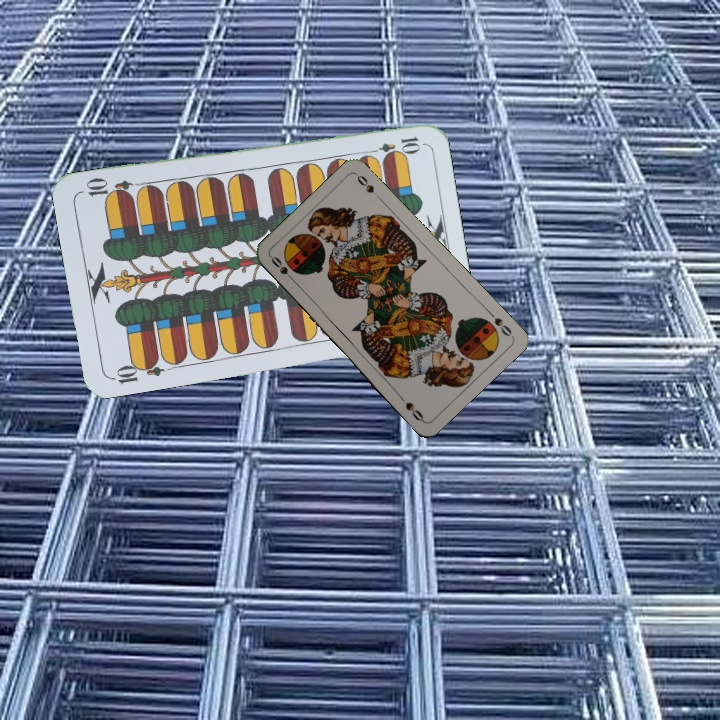E10: (107, 354, 166, 387), (364, 132, 423, 158)
SO: (267, 252, 298, 286), (484, 306, 514, 339)
